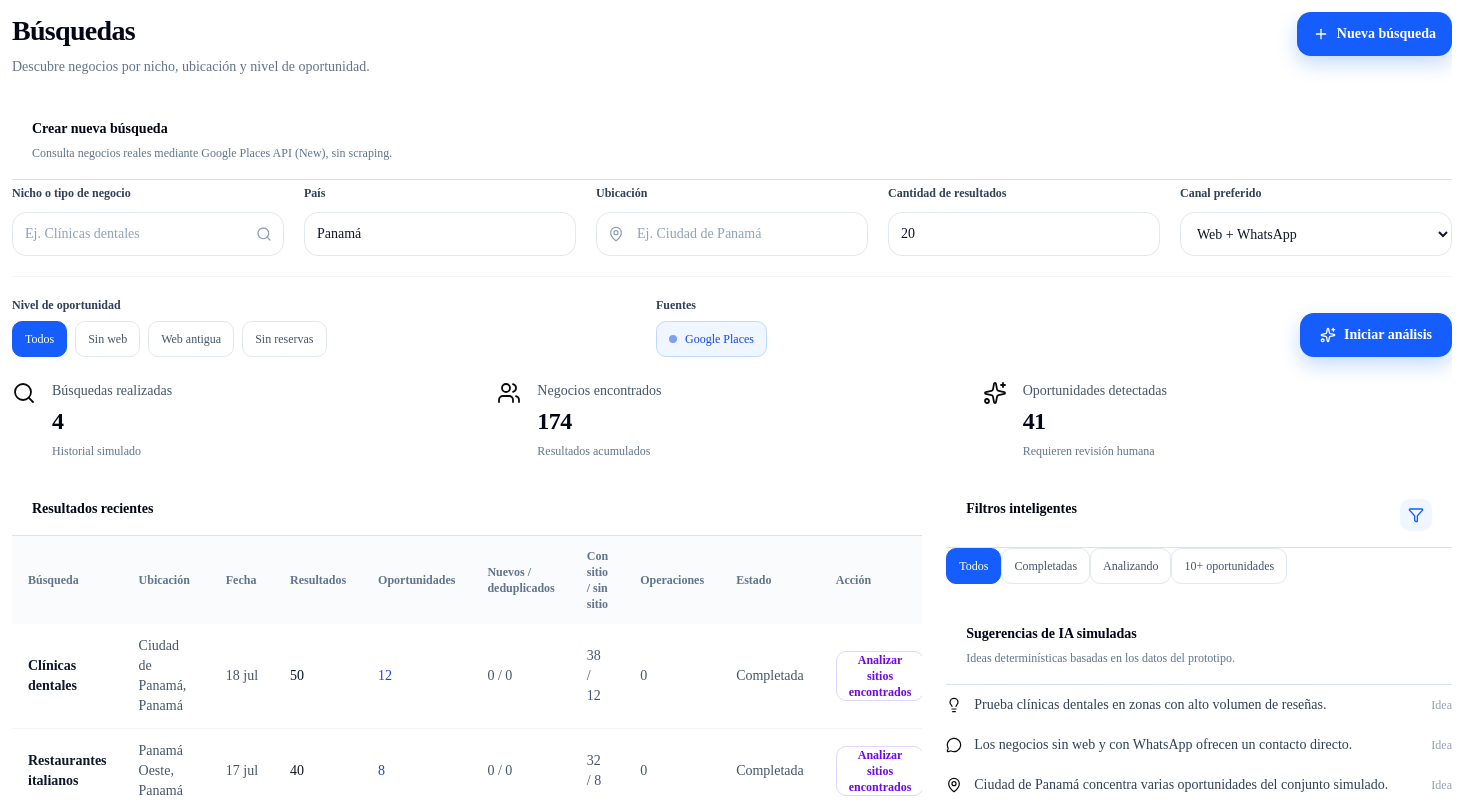
flujo de búsquedas reales › expone atribución y prepara el análisis sin fingir que terminó
This screenshot has width=1464, height=808.
Click the button "Analizar sitios encontrados" in the row of "Ciudad de Panamá, Panamá". click: (880, 676)
box: [836,651,924,701]
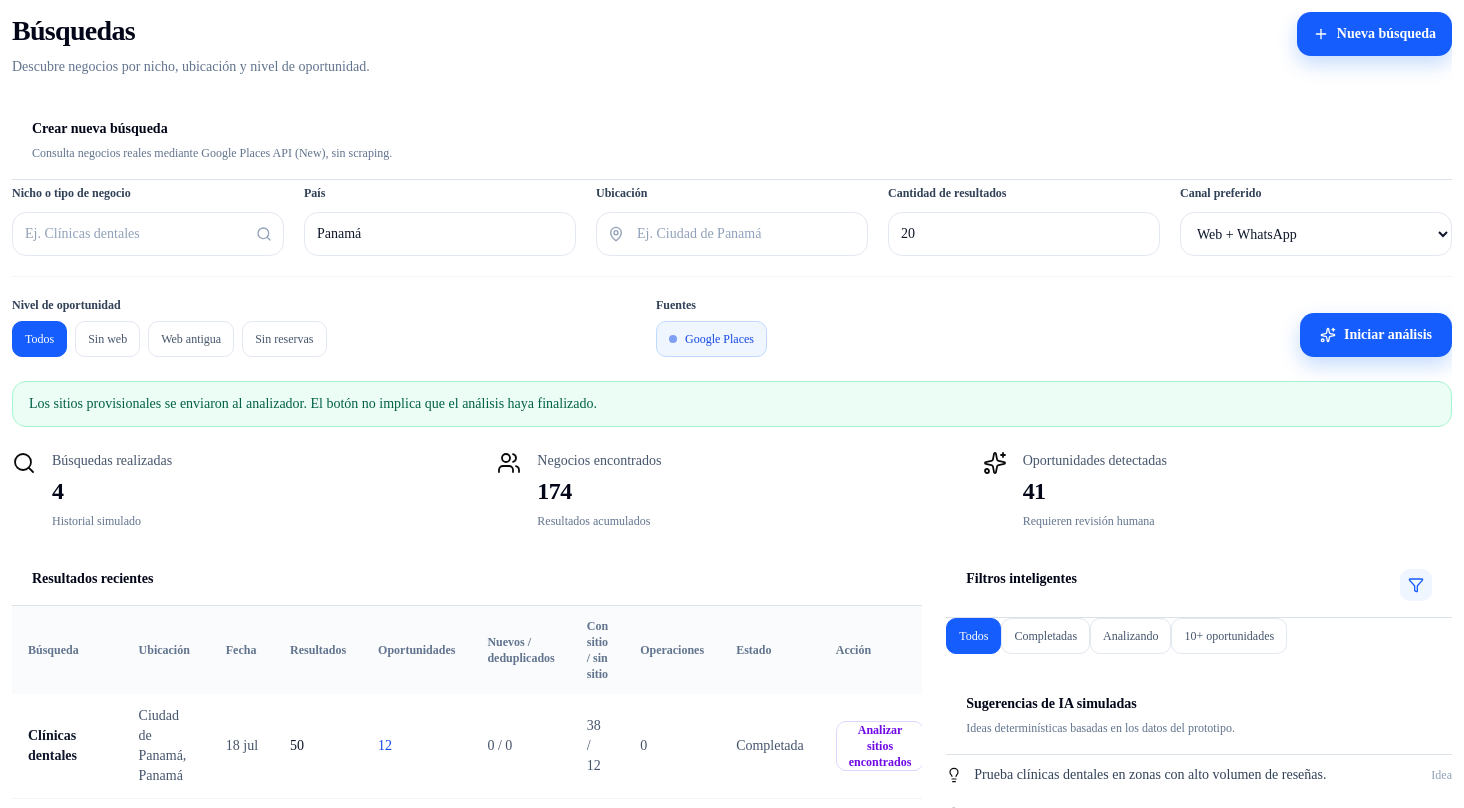
Expected: the text "no implica que el análisis haya finalizado" is shown, [29,396,597,411]
